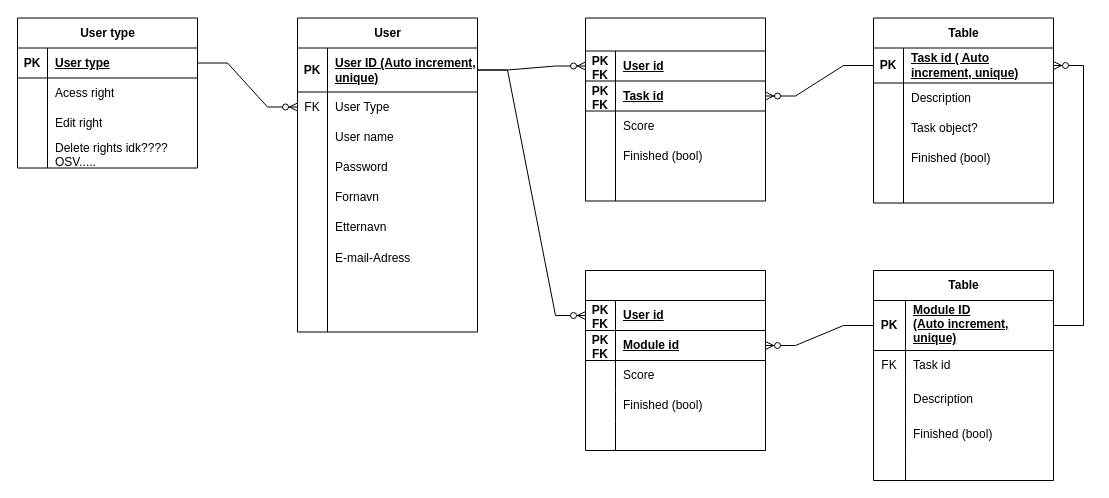
This 1109x498 diagram has some shape labels left out. Each missing label, with the box of its shape:
User modules (Weak table): (584, 270, 766, 450)
User tasks (Weak Table): (584, 17, 766, 201)
